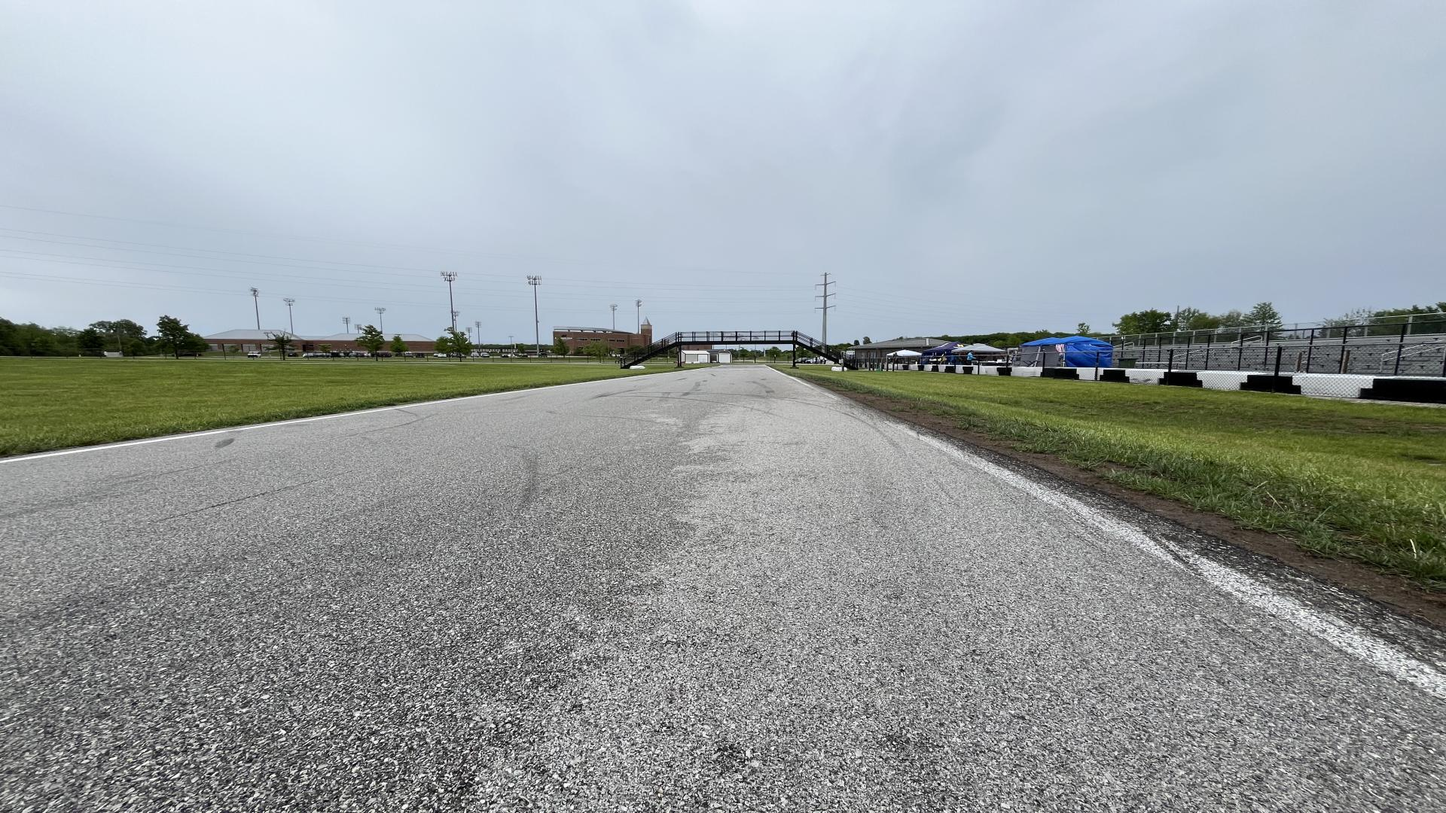white-line: (884, 418, 1445, 697), (0, 373, 668, 462), (772, 370, 837, 399), (693, 365, 722, 370), (764, 365, 770, 367)
